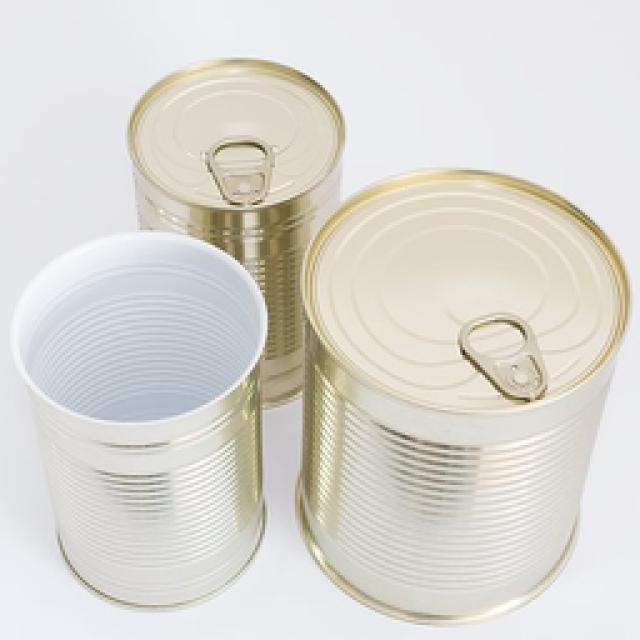alumunium: (12, 60, 628, 620)
